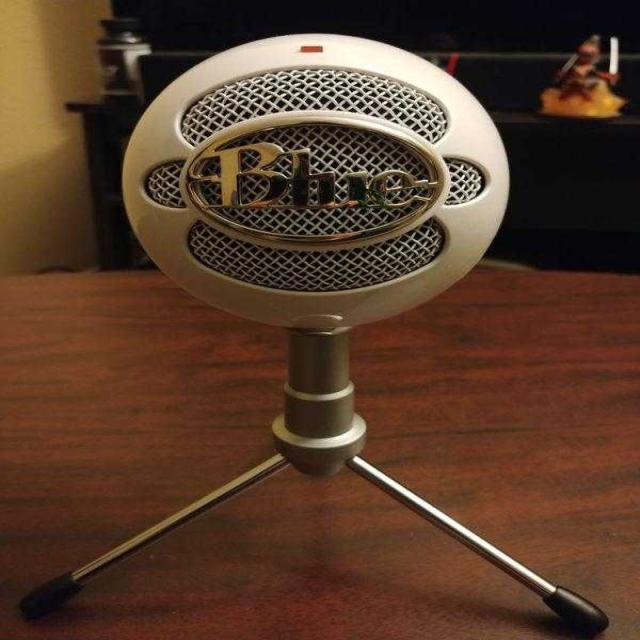microphone: (121, 32, 531, 329)
